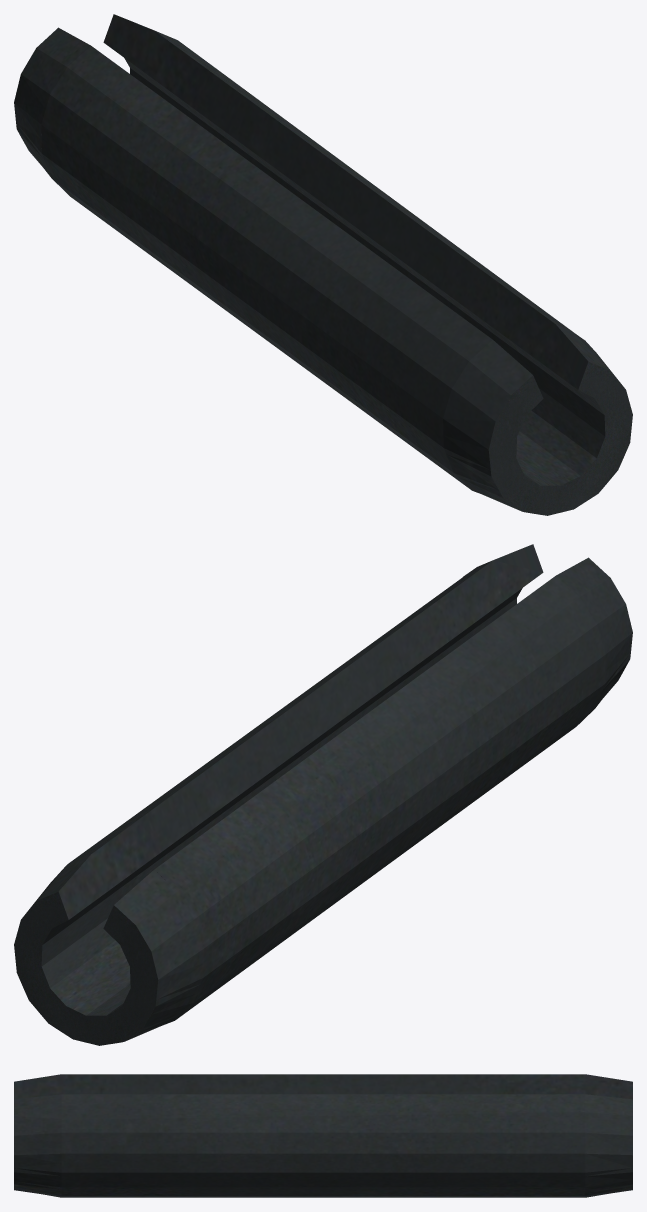
Rendered from Trigger_Guard_Spring_Pin_Retaining_Pin.dae.
3 renders of one model, top to bottom at view 1: azimuth 30°, elevation 25°; view 2: azimuth 150°, elevation 25°; view 3: azimuth 270°, elevation 25°, orthographic. The views are drawn at different scales.
Parts seen in each view (by area): view 1: Trigger_Guard_Spring_Pin_Retaining_Pin; view 2: Trigger_Guard_Spring_Pin_Retaining_Pin; view 3: Trigger_Guard_Spring_Pin_Retaining_Pin.
Boxes of the visible parts, <box> form: Trigger_Guard_Spring_Pin_Retaining_Pin: <box>14,14,632,515</box>; Trigger_Guard_Spring_Pin_Retaining_Pin: <box>14,544,632,1045</box>; Trigger_Guard_Spring_Pin_Retaining_Pin: <box>14,1074,632,1197</box>.
Size of the model in its own units: 0.00306 by 0.0155 by 0.00298.
Materials: 1 (1 with a texture image).
